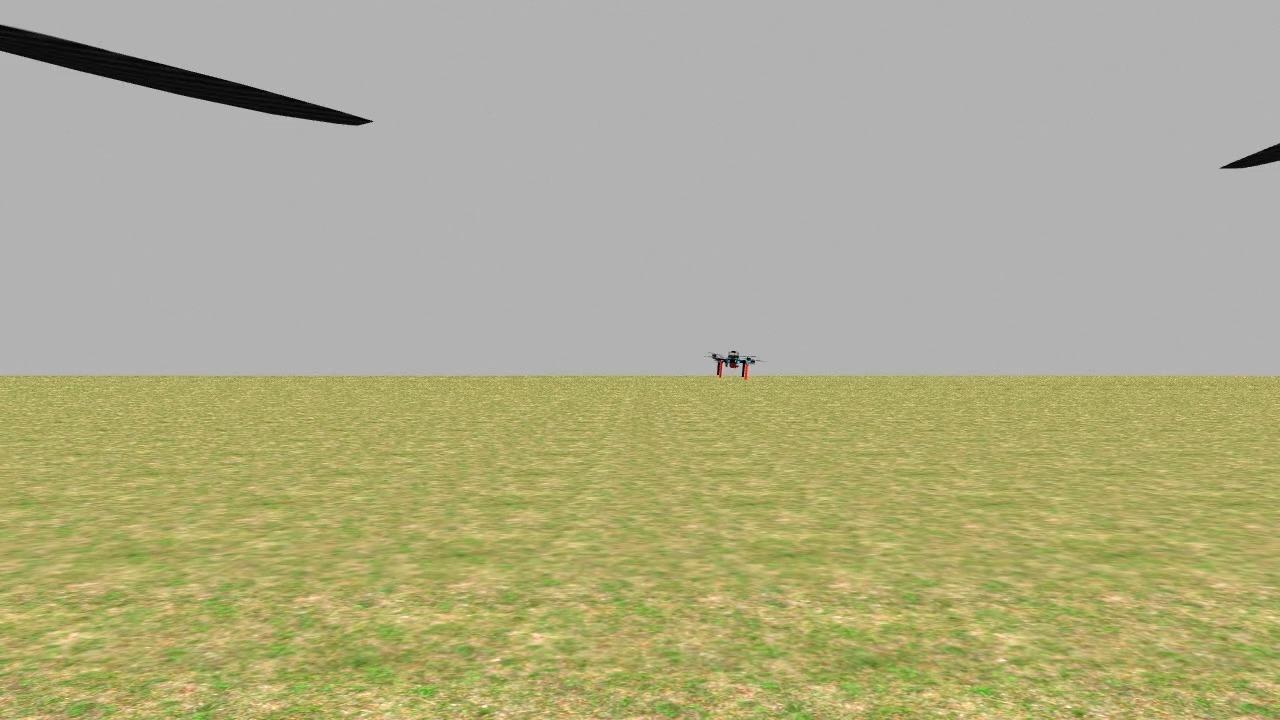UAV: (693, 337, 769, 383)
